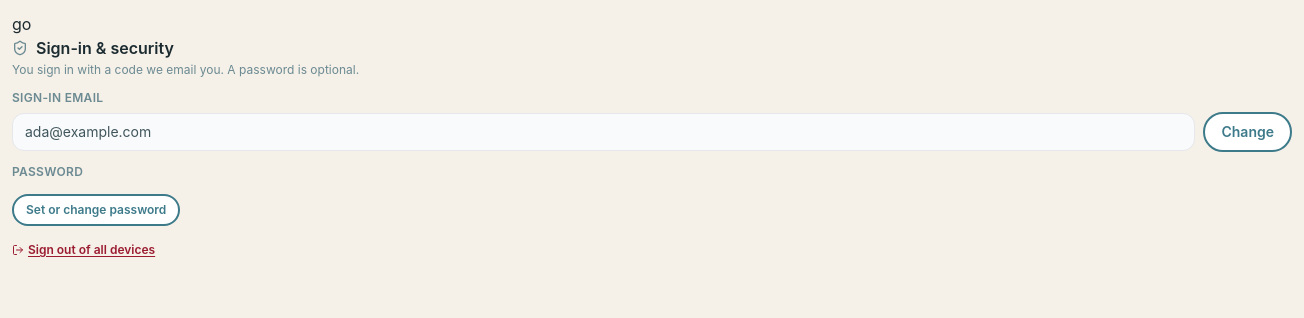
SignInSecuritySection › reports a failed global sign-out
Click the button "Sign out of all devices".
click(84, 250)  # box [12,242,155,258]
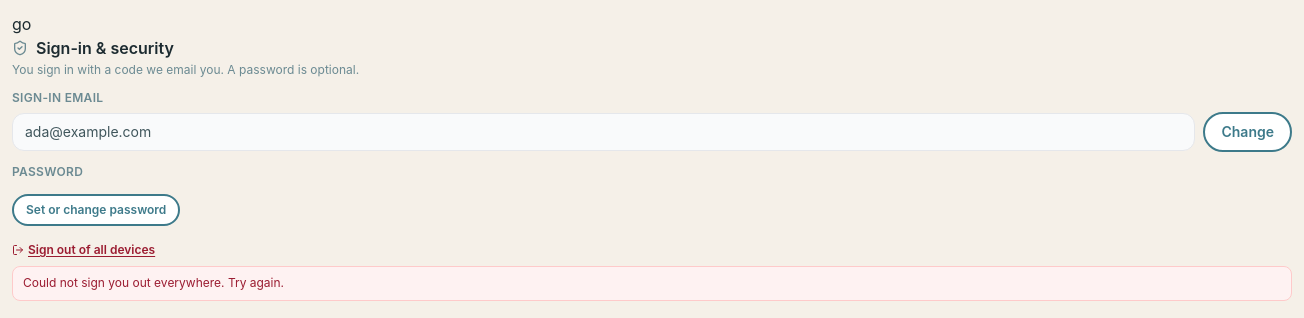
Now the message shows "Could not sign you out", box [23,275,284,290]
